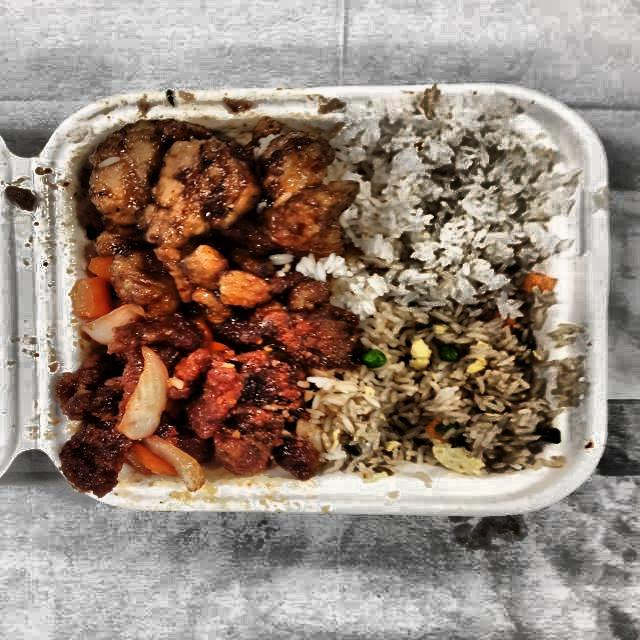Food: (48, 302, 354, 499), (68, 117, 346, 320), (333, 108, 578, 292), (320, 308, 578, 480)
